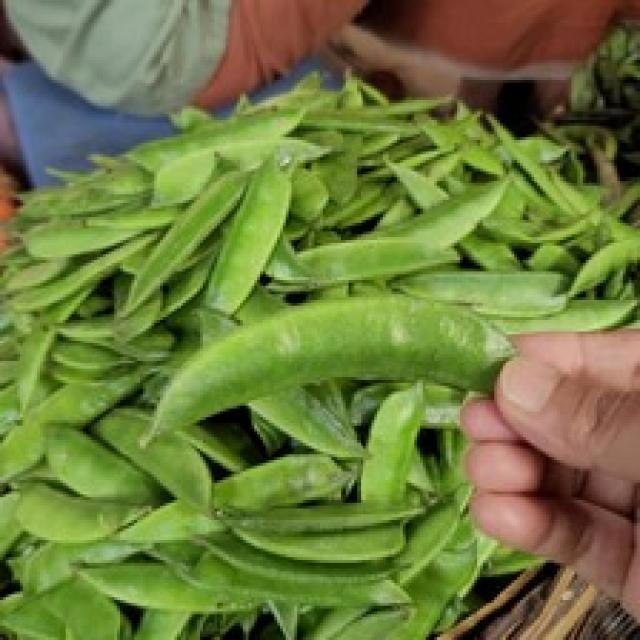Bean: (0, 63, 637, 637)
